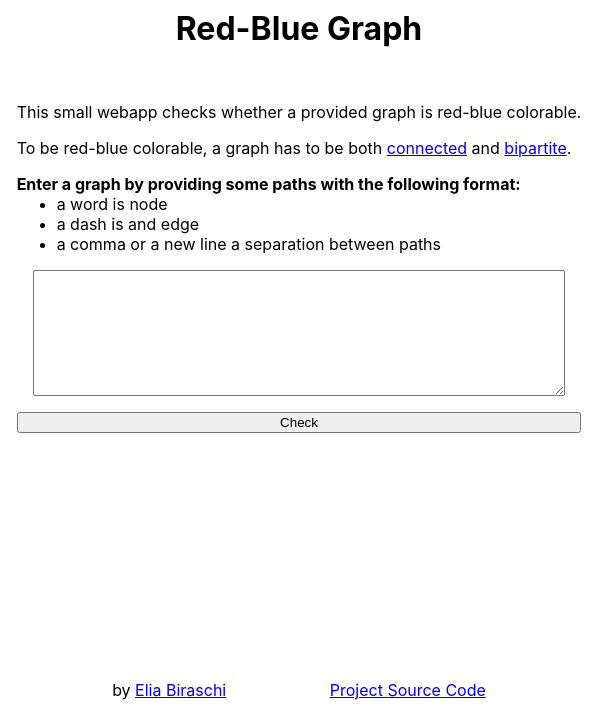
Test case: the fail-result should appear when providing a non bigraph
Type "a-b-c-a" into the text box at (299, 333), box [33,270,565,396]
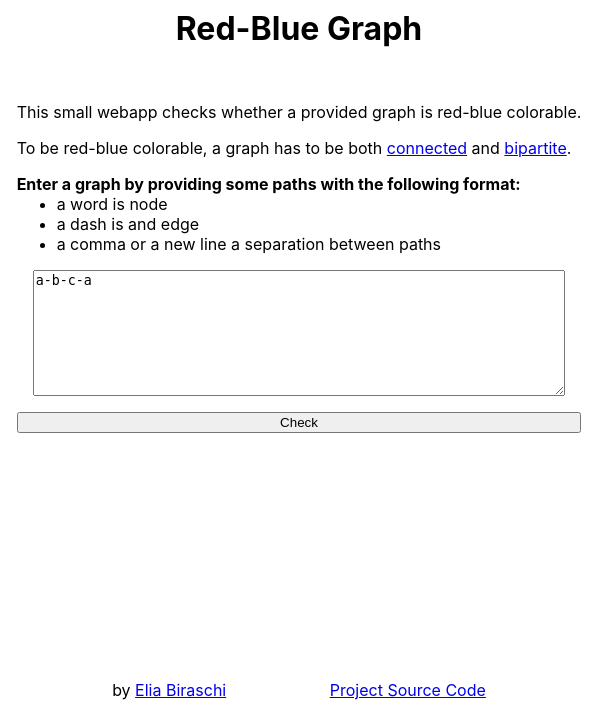
Click the button at (299, 422), box [17,412,581,433]
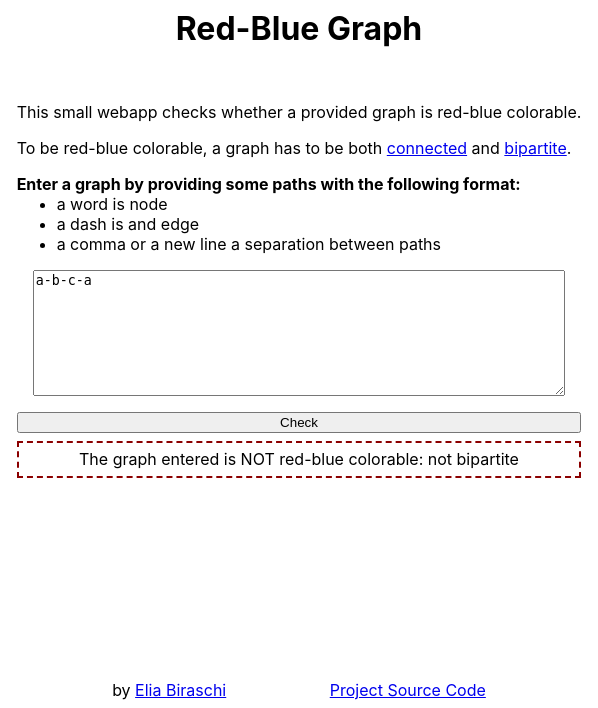
expect the text "The graph entered is NOT red-blue colorable: not bipartite" is shown: met, box [17,441,581,478]
